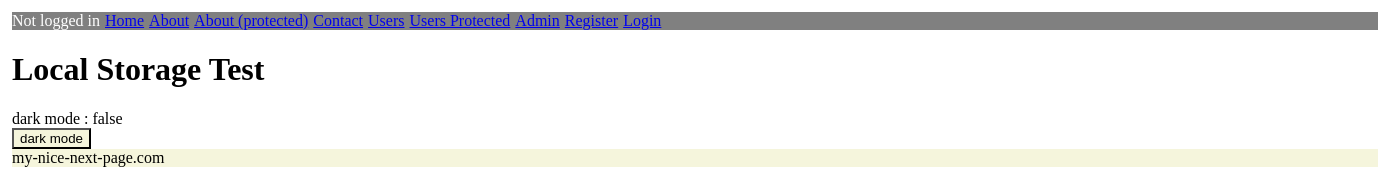
Navigation › should navigate to most pages and check for some content
Expected: the heading "Local Storage Test" is shown, [12,51,264,87]
Expected: the text "dark mode : false" is shown, [12,110,123,127]
// Navigate to about page
Click the link with test id "header-about-link" at (169, 21), box [149,12,189,30]
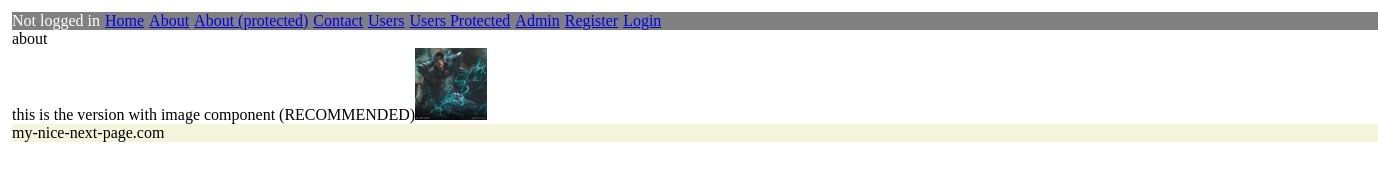
Expected: the element showing "about this is the version with image component (RECOMMENDED)" is shown, [12,30,487,123]
